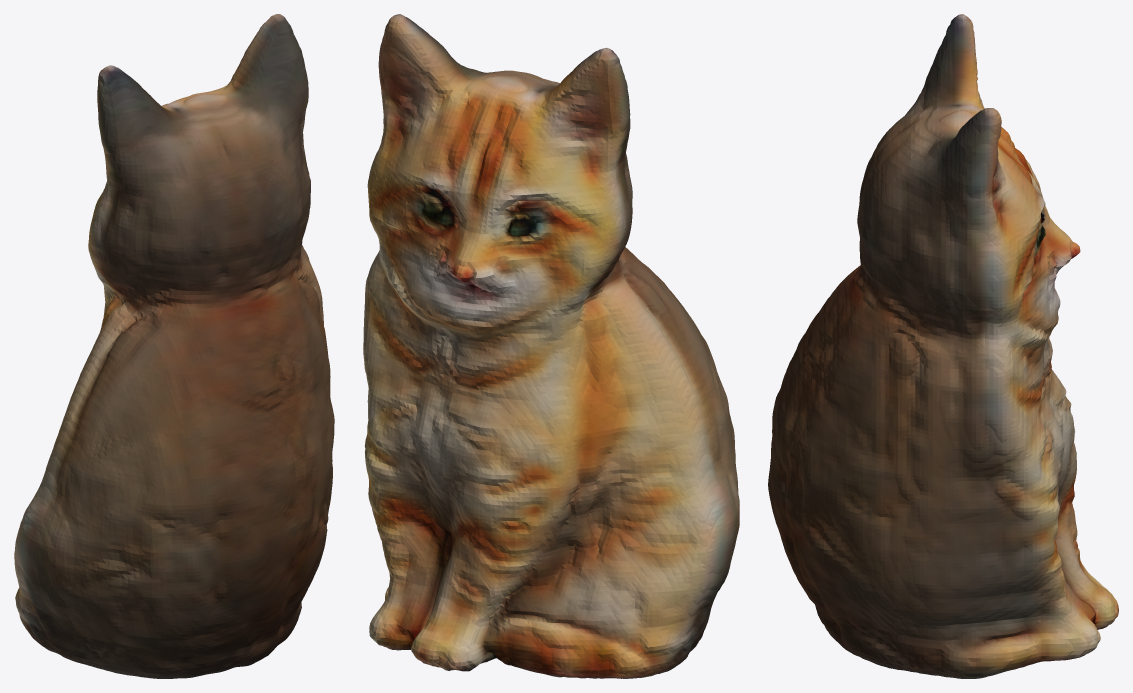
The model's file is gato_local.glb.
3 renders of one model, left to right at view 1: azimuth 30°, elevation 25°; view 2: azimuth 150°, elevation 25°; view 3: azimuth 270°, elevation 25°, orthographic. The views are drawn at different scales.
Parts seen in each view (by area): view 1: geometry_0; view 2: geometry_0; view 3: geometry_0.
Part boxes in pixels (x1,y1,x2,y2): geometry_0: (14, 14, 334, 678); geometry_0: (363, 14, 739, 678); geometry_0: (768, 14, 1118, 678).
Bounding box in the file's own units: 0.5667 × 1.03 × 0.5507.
